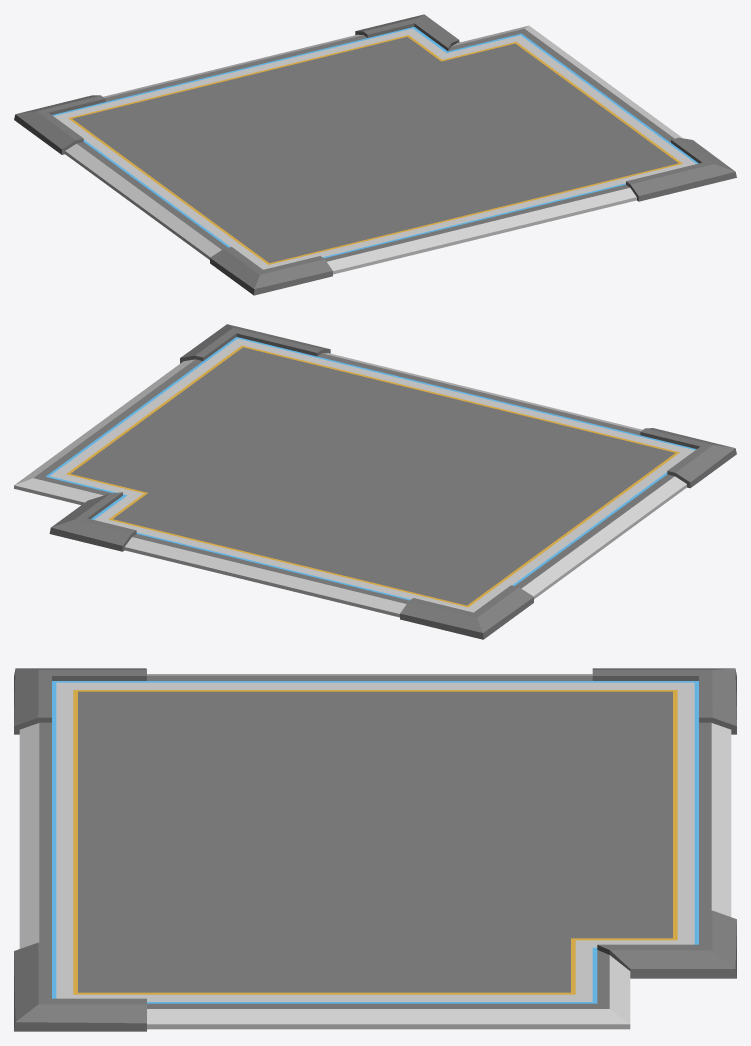
File: Wavefront_BaseFloor.fbx
3 views of the same model, one above another, from view 1: azimuth 30°, elevation 25°; view 2: azimuth 150°, elevation 25°; view 3: azimuth 270°, elevation 25° (orthographic). The views are drawn at different scales.
Visible parts, largest first — view 1: Wavefront_BaseFloor; view 2: Wavefront_BaseFloor; view 3: Wavefront_BaseFloor.
Part boxes in pixels (left/top/right/bottom): Wavefront_BaseFloor: left=14, top=14, right=736, bottom=295; Wavefront_BaseFloor: left=14, top=324, right=736, bottom=639; Wavefront_BaseFloor: left=14, top=668, right=736, bottom=1031.
Bounding box in the file's own units: 2266 × 50.74 × 1950.
